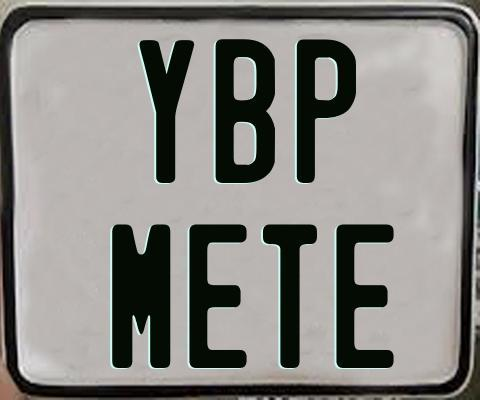B: (214, 39, 277, 186)
E: (189, 224, 249, 374), (336, 221, 395, 367)
M: (111, 222, 174, 371)
P: (295, 37, 360, 184)
T: (260, 224, 316, 370)
Y: (136, 38, 191, 182)
